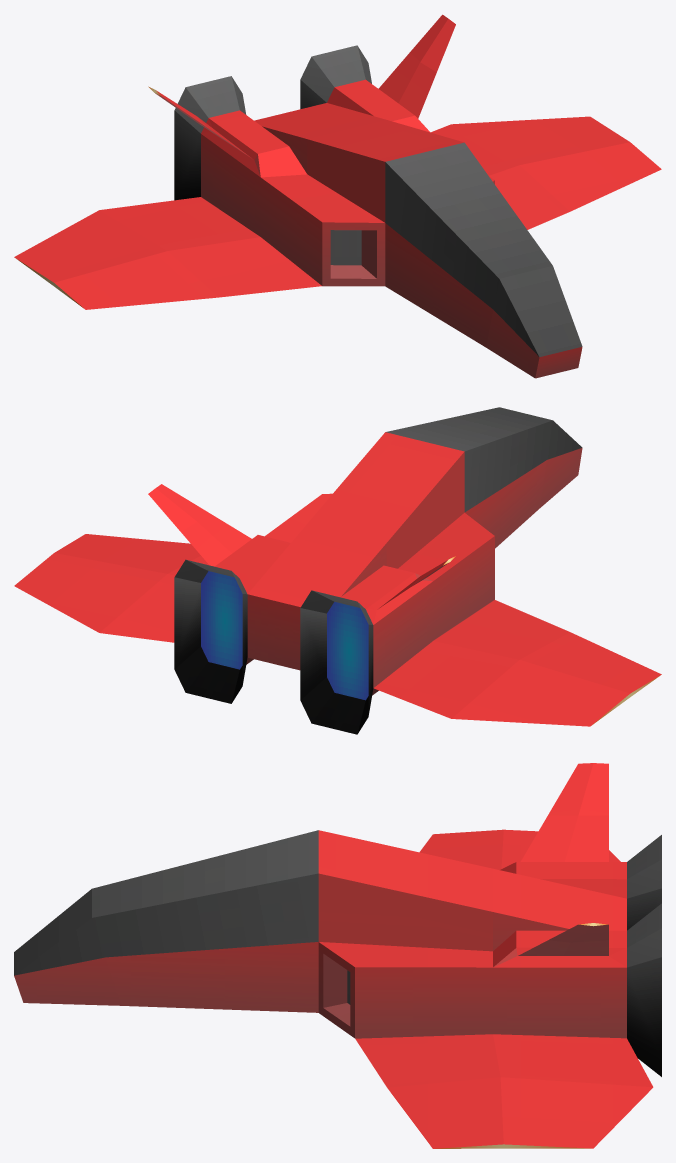
Rendered from PlayerShip_V3.obj.
The picture shows the model from 3 angles, top to bottom: view 1: azimuth 30°, elevation 25°; view 2: azimuth 150°, elevation 25°; view 3: azimuth 270°, elevation 25°; orthographic projection. The views are drawn at different scales.
Parts seen in each view (by area): view 1: Ship; view 2: Ship; view 3: Ship.
Boxes of the visible parts, x1,y1,x2,y2 form: Ship: [14, 14, 661, 378]; Ship: [14, 407, 661, 734]; Ship: [14, 763, 661, 1148].
Size of the model in its own units: 1.52 by 0.4211 by 1.32.
